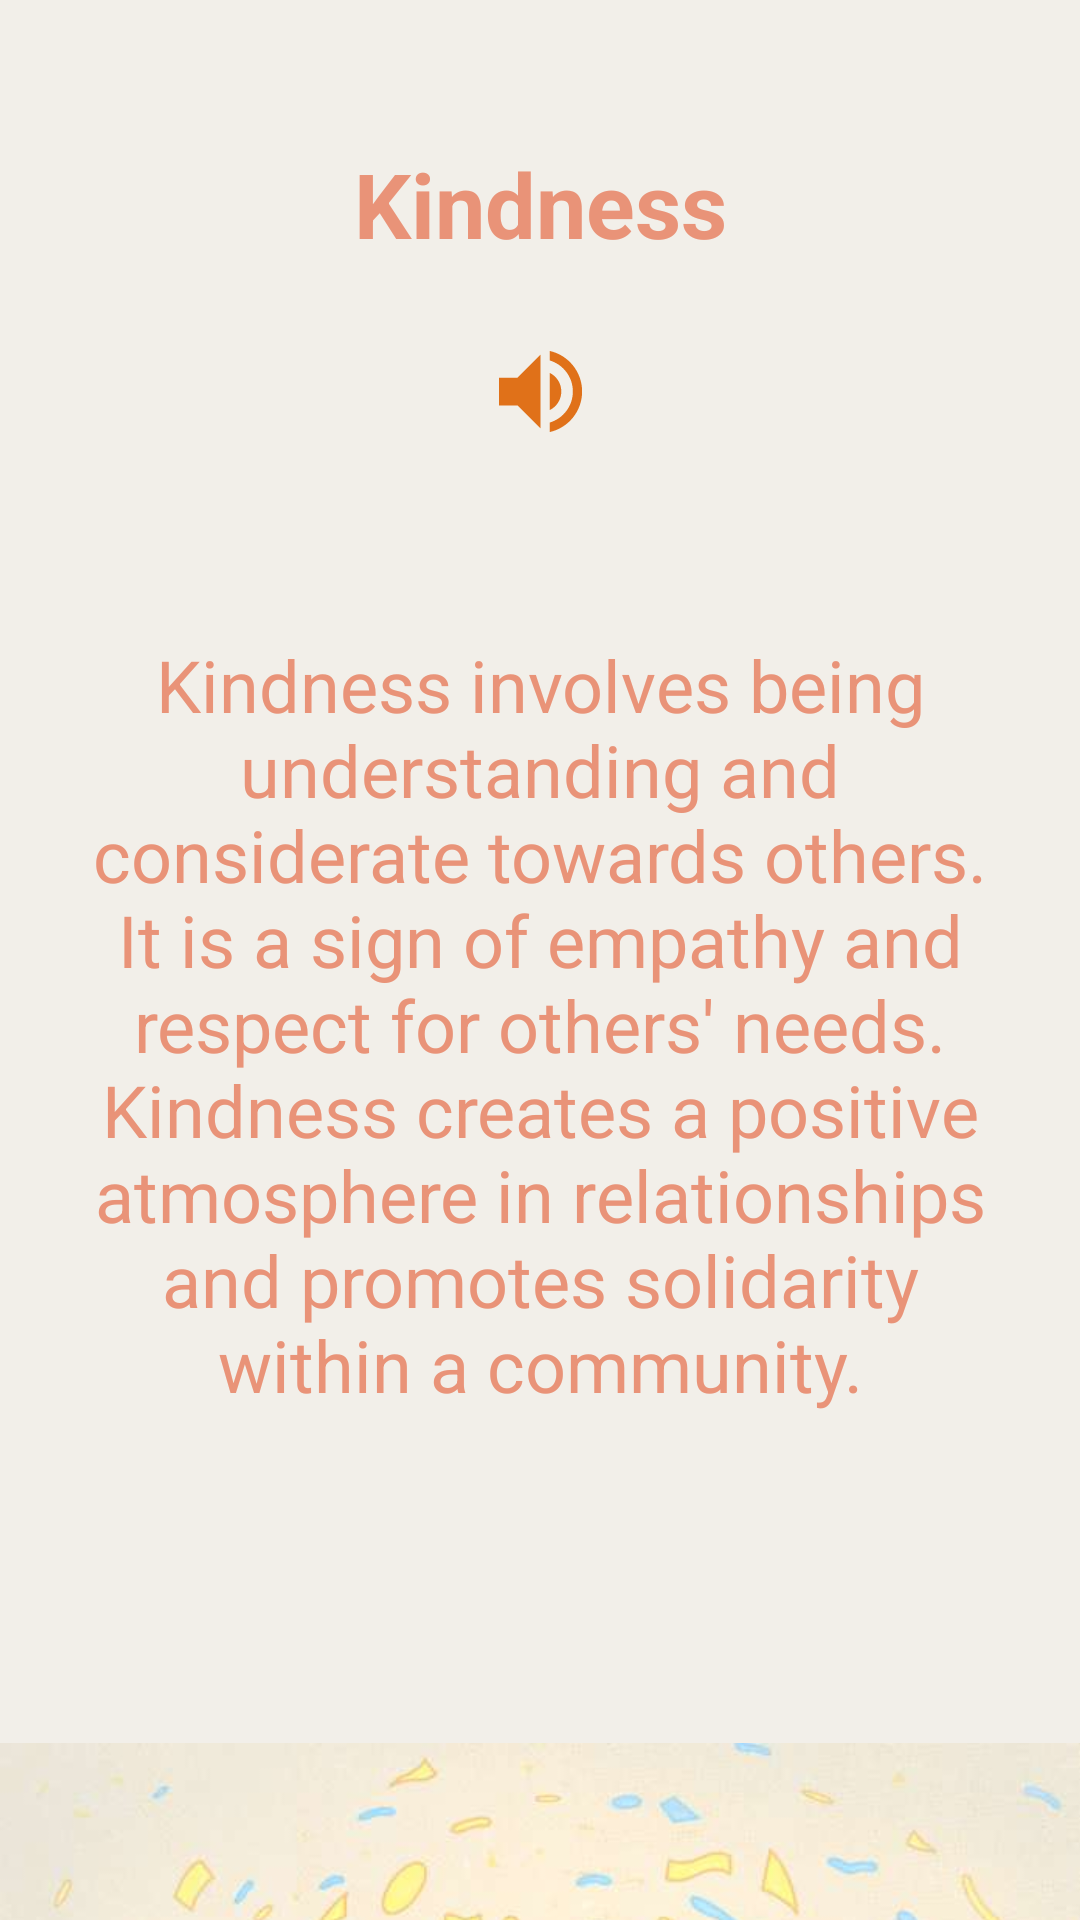

Icon click points for this 1080px x 1920px phone screenshot, format [x,y]:
volume up: [540,391]
